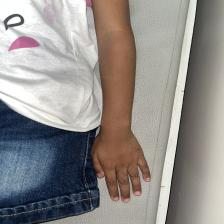DA: (100, 120, 112, 134), (124, 54, 134, 64)
